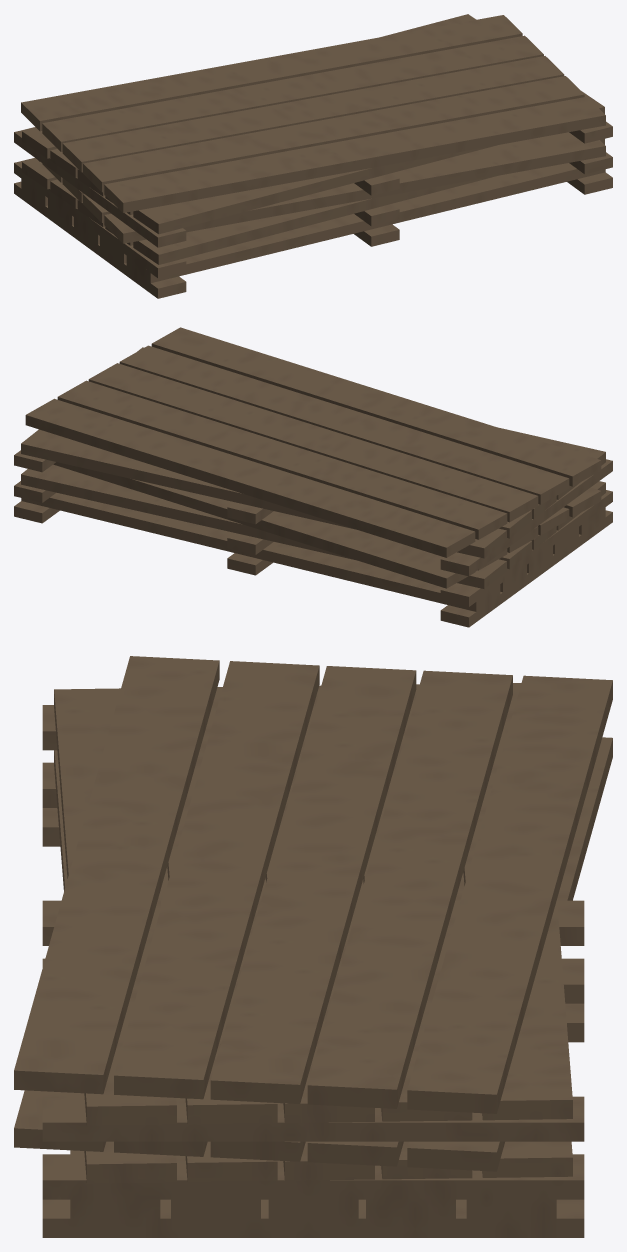
File: Palets.fbx
3 renders of one model, top to bottom at view 1: azimuth 30°, elevation 25°; view 2: azimuth 150°, elevation 25°; view 3: azimuth 270°, elevation 25°, orthographic. The views are drawn at different scales.
Visible parts, largest first — view 1: Cube.150; view 2: Cube.150; view 3: Cube.150.
Part boxes in pixels (x1=…): Cube.150: x1=14, y1=14, x2=612, y2=298; Cube.150: x1=14, y1=327, x2=612, y2=627; Cube.150: x1=14, y1=656, x2=612, y2=1237.
Size of the model in its own units: 366 by 59.88 by 211.
